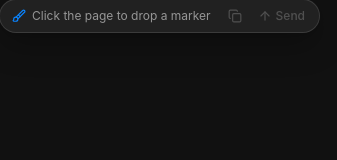
Test case: AnnotateBar › A3: nothing goes anywhere without a click — no markers means both buttons are disabled
The width and height of the screenshot is (337, 160).
Later steps or results of the test are not shown.
Expected: the element with class "annotate-bar-count" reads "Click the page to drop a marker", [32,8,211,23]
Step 1. Click the button "Send" → {"x": 283, "y": 16}, box [251,4,315,28]
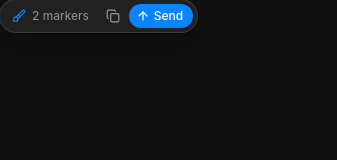
Expected: the element with class "annotate-bar-count" reads "2 markers", [32,8,89,23]
